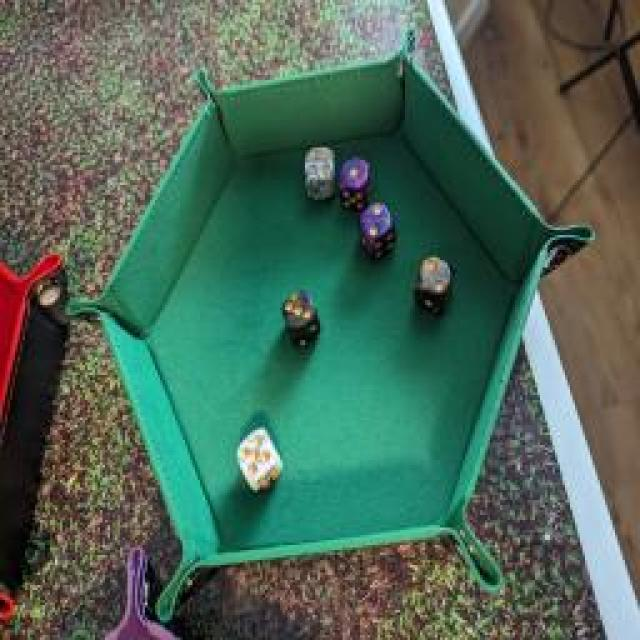dice_1: (335, 154, 373, 208)
dice_2: (355, 198, 400, 264), (412, 252, 456, 316)
dice_3: (278, 286, 322, 349)
dice_4: (302, 138, 336, 198)
dice_5: (233, 423, 285, 495)
